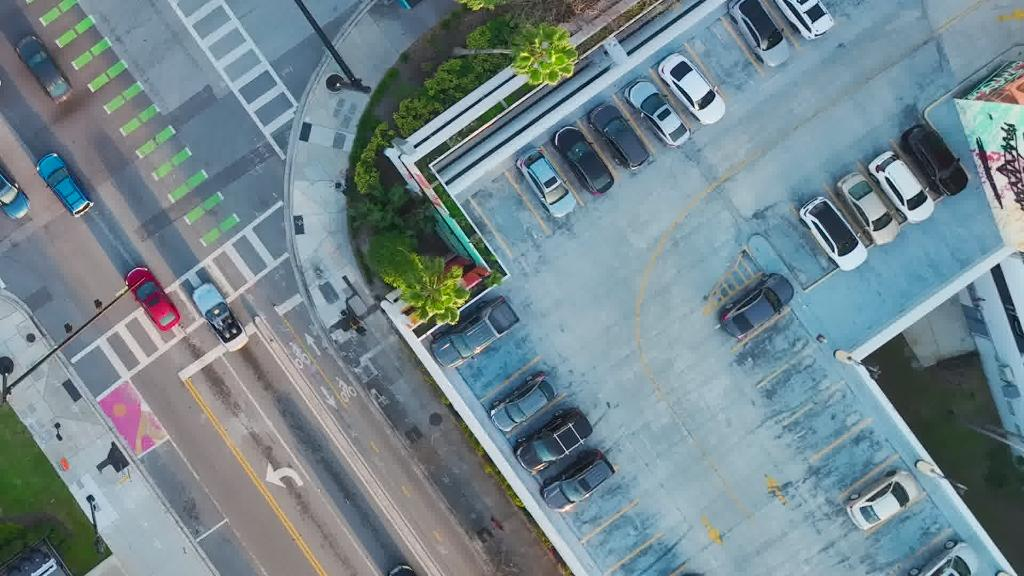cars: (428, 294, 522, 368), (514, 408, 594, 474), (798, 196, 866, 270), (900, 123, 968, 197), (720, 272, 796, 338), (868, 150, 934, 225), (657, 52, 725, 124), (540, 447, 616, 511), (624, 76, 690, 148), (846, 468, 920, 532), (836, 171, 900, 245), (552, 124, 614, 196), (516, 146, 576, 217), (727, 0, 790, 67), (490, 370, 558, 432), (590, 102, 652, 170), (192, 280, 250, 352), (15, 34, 73, 104), (124, 266, 182, 331), (36, 153, 94, 218), (906, 538, 982, 576), (762, 0, 833, 39), (0, 156, 31, 220), (386, 562, 420, 576), (0, 39, 1, 99)
